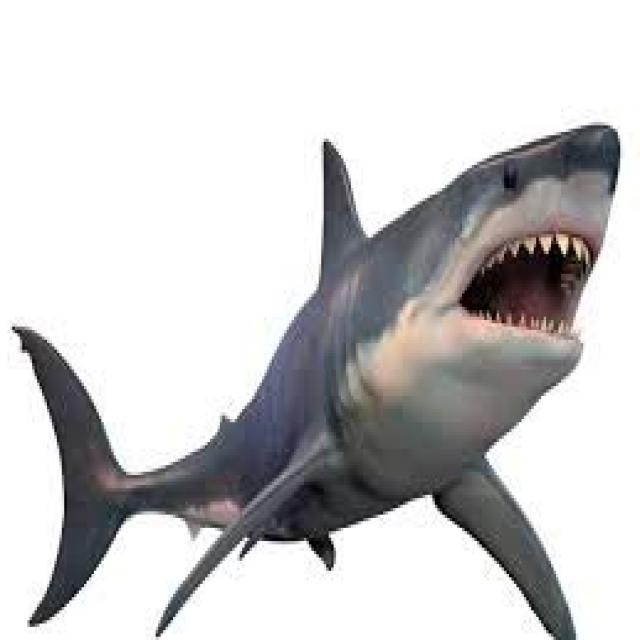shark: (17, 125, 620, 637)
